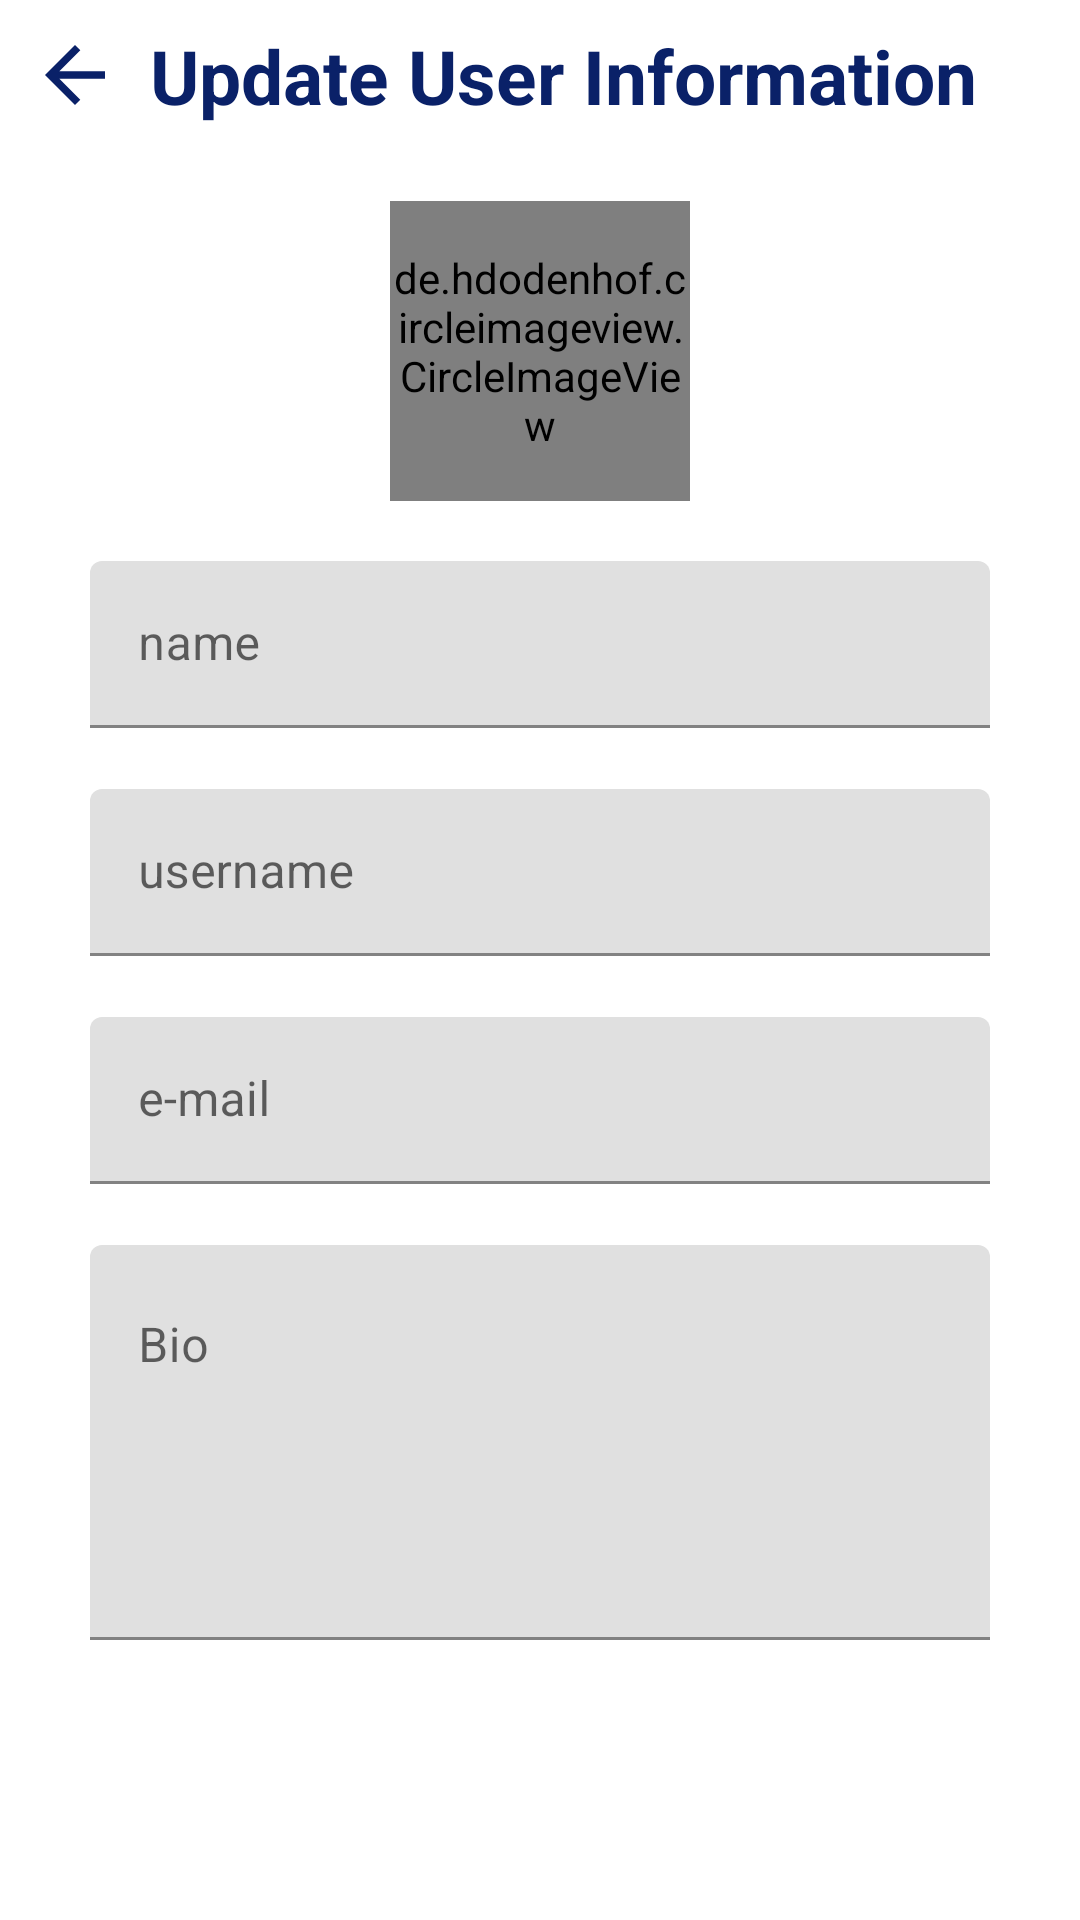

Named icons in this screenshot (1080*1920) and their centers, [x,y]:
arrow back: [75,75]
